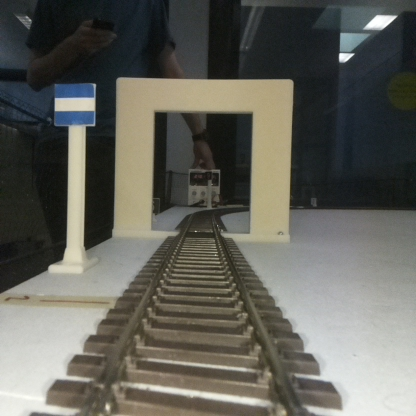start: (54, 84, 94, 270)
